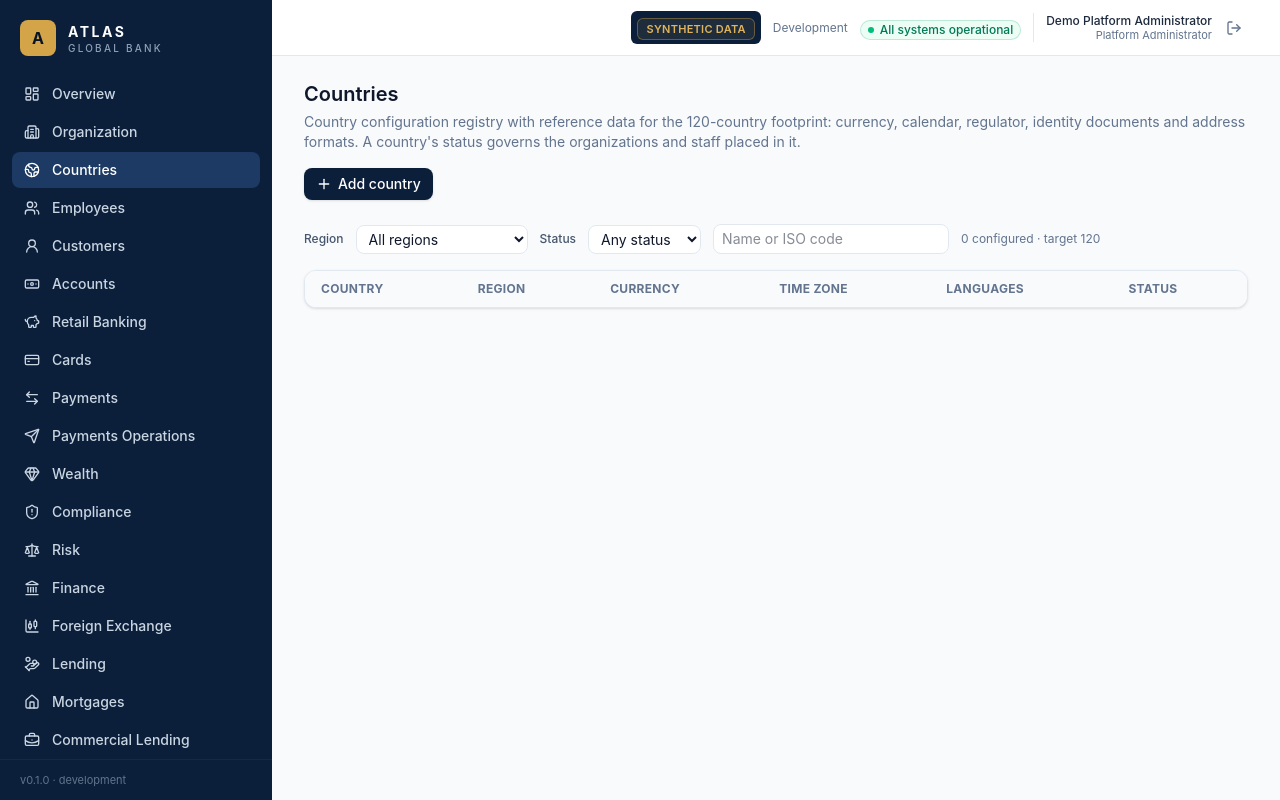
Scenario: Countries page › shows the API's validation errors in the form
The image size is (1280, 800).
Click the button "Add country" at [368, 184], box [304, 168, 433, 200]
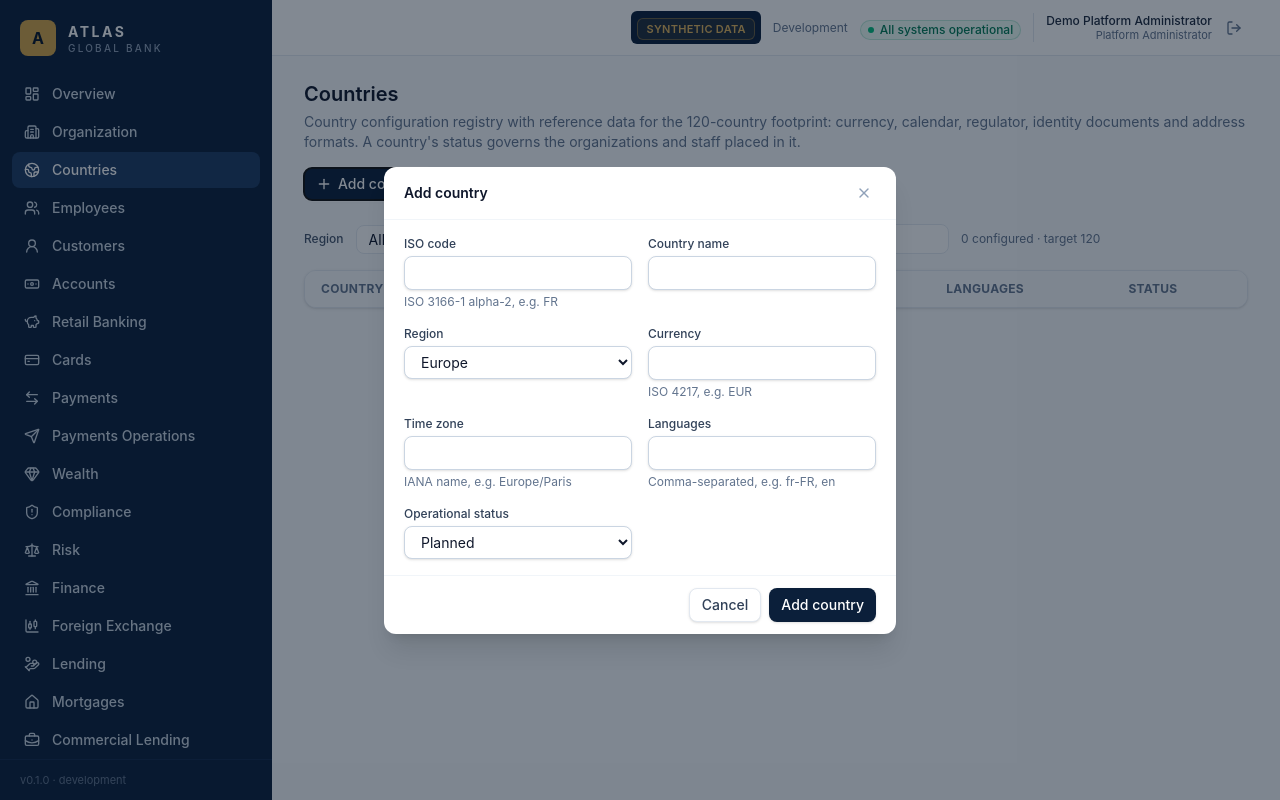
Type "FR" into the field labelled "ISO code" at [518, 272], box [404, 256, 632, 290]
Type "France" into the field labelled "Country name" at [762, 272], box [648, 256, 876, 290]
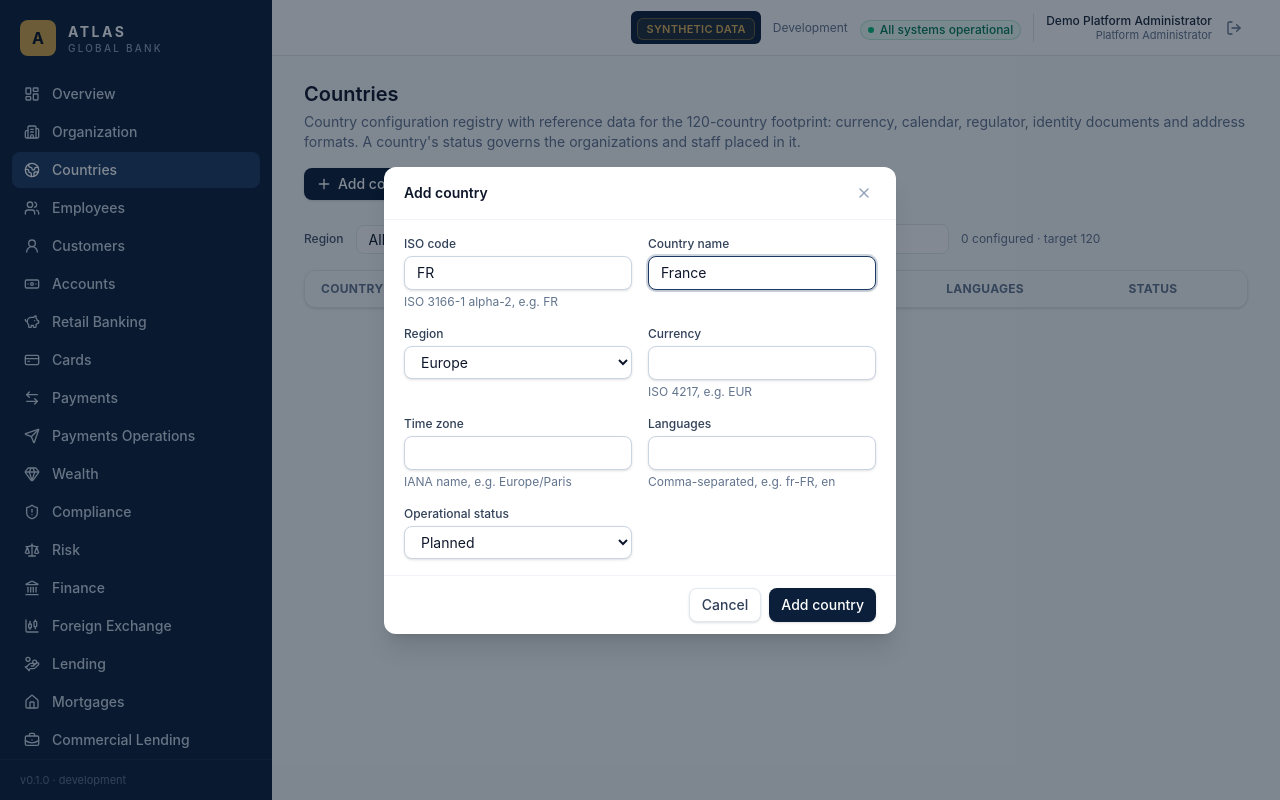
Type "EUR" into the field labelled "Currency" at [762, 362], box [648, 346, 876, 380]
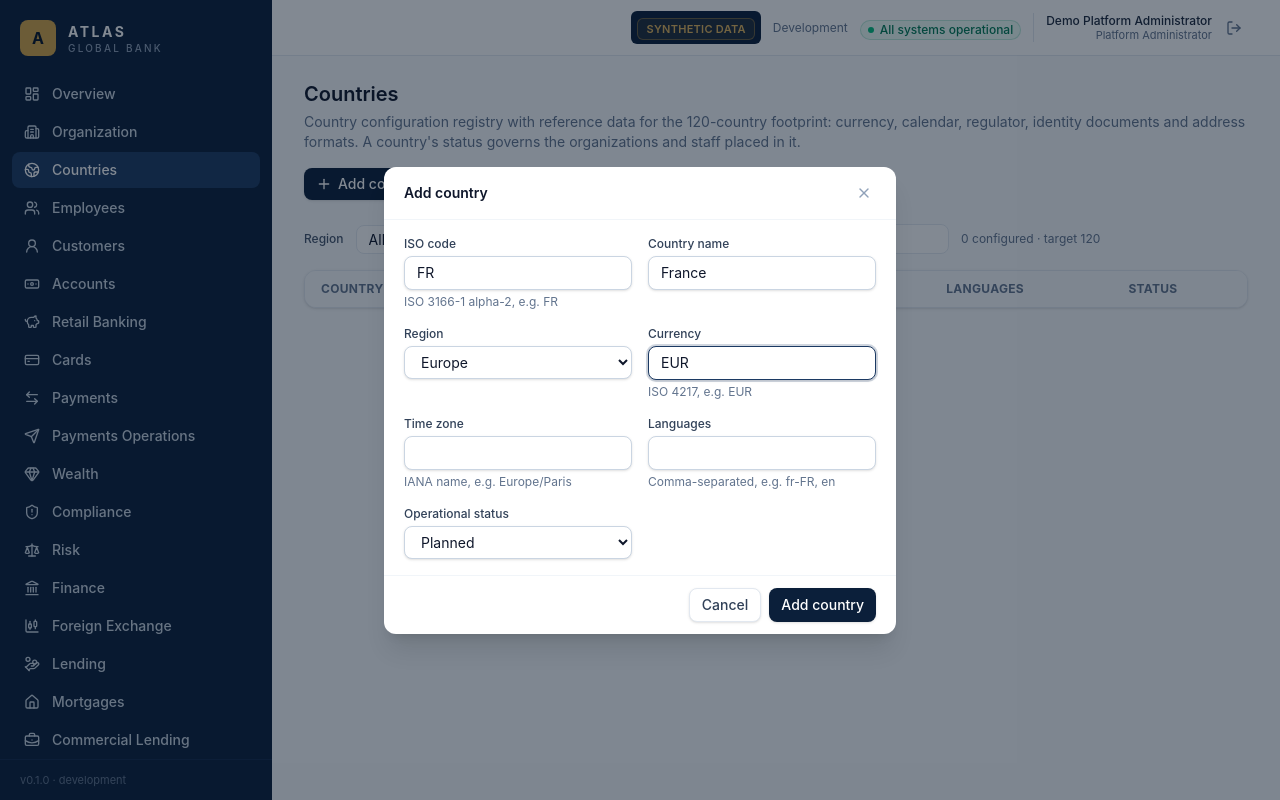
Type "Paris" into the field labelled "Time zone" at [518, 452], box [404, 436, 632, 470]
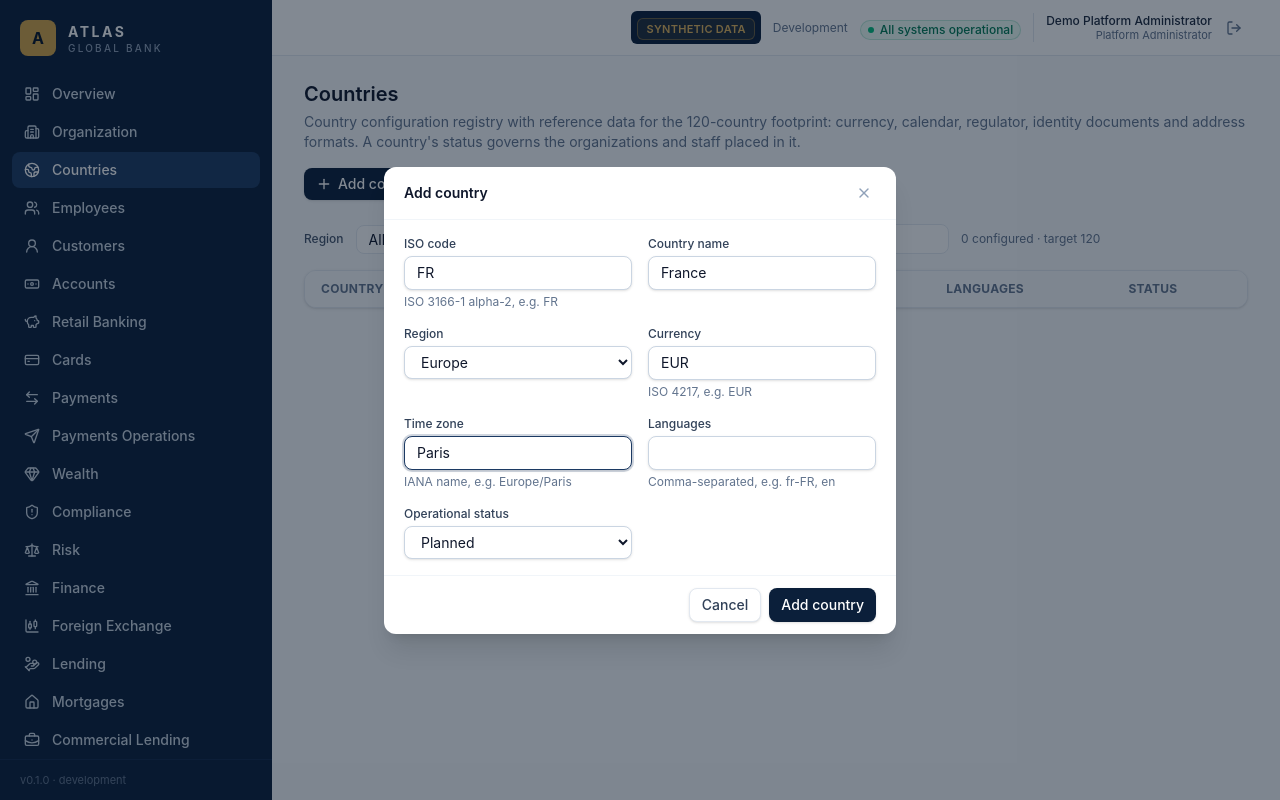
Type "fr" into the field labelled "Languages" at [762, 452], box [648, 436, 876, 470]
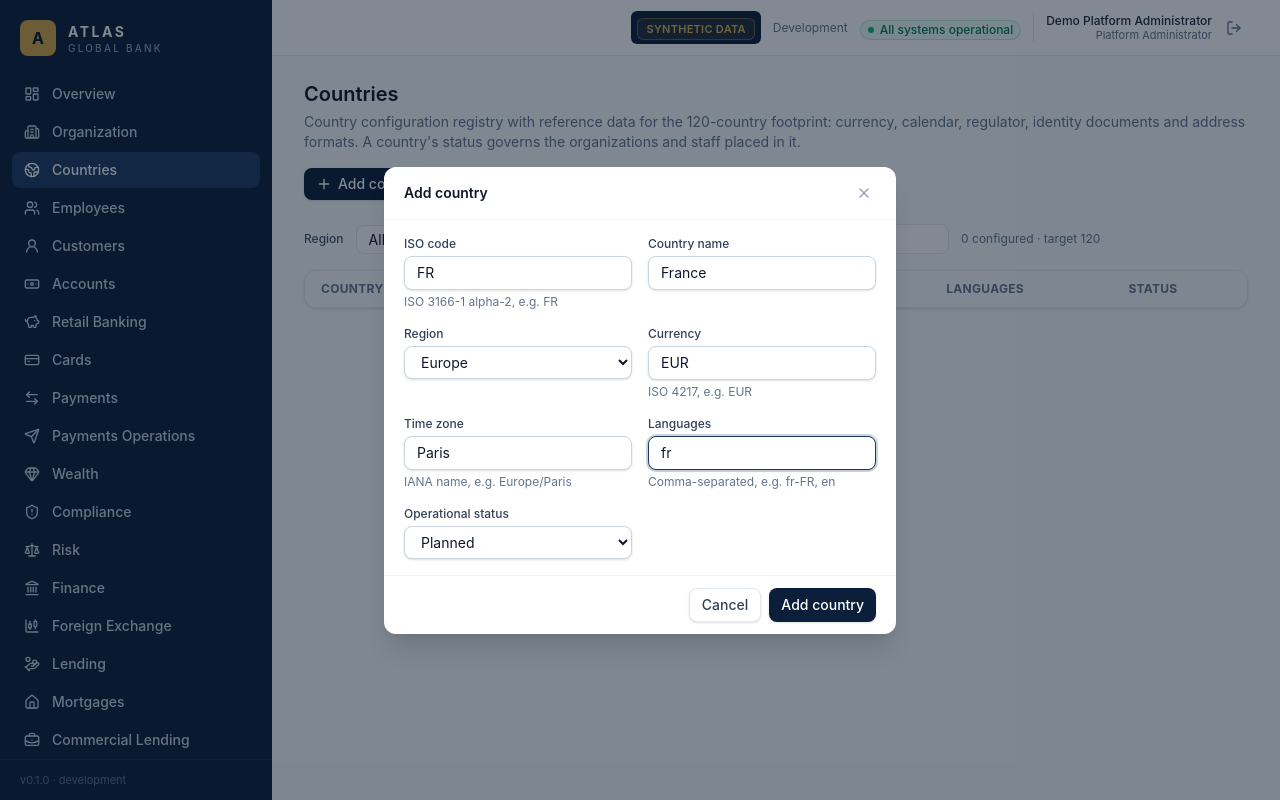
Click the button "Add country" at [823, 604], box [769, 588, 876, 622]
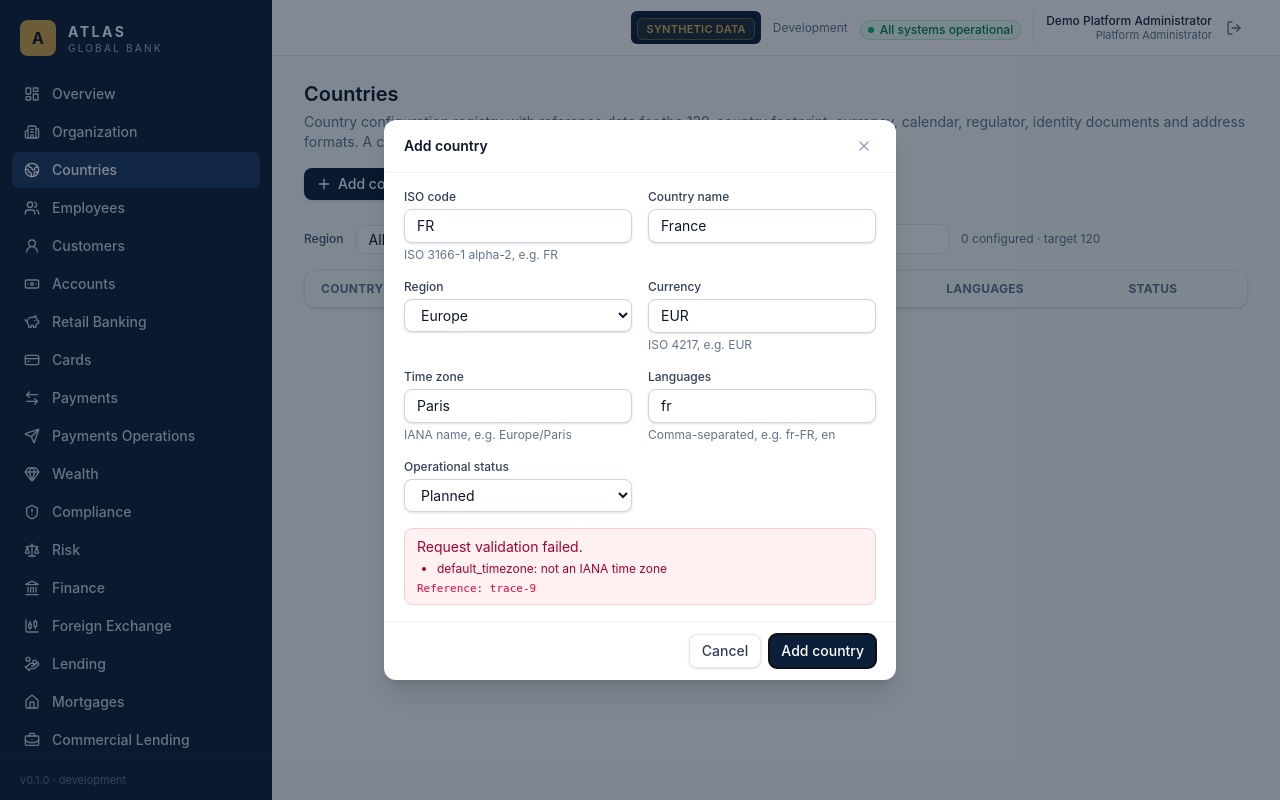
Now the message shows "default_timezone: not an IANA time zone", box [437, 561, 667, 576]
Now the message shows "Reference: trace-9", box [404, 528, 876, 605]
